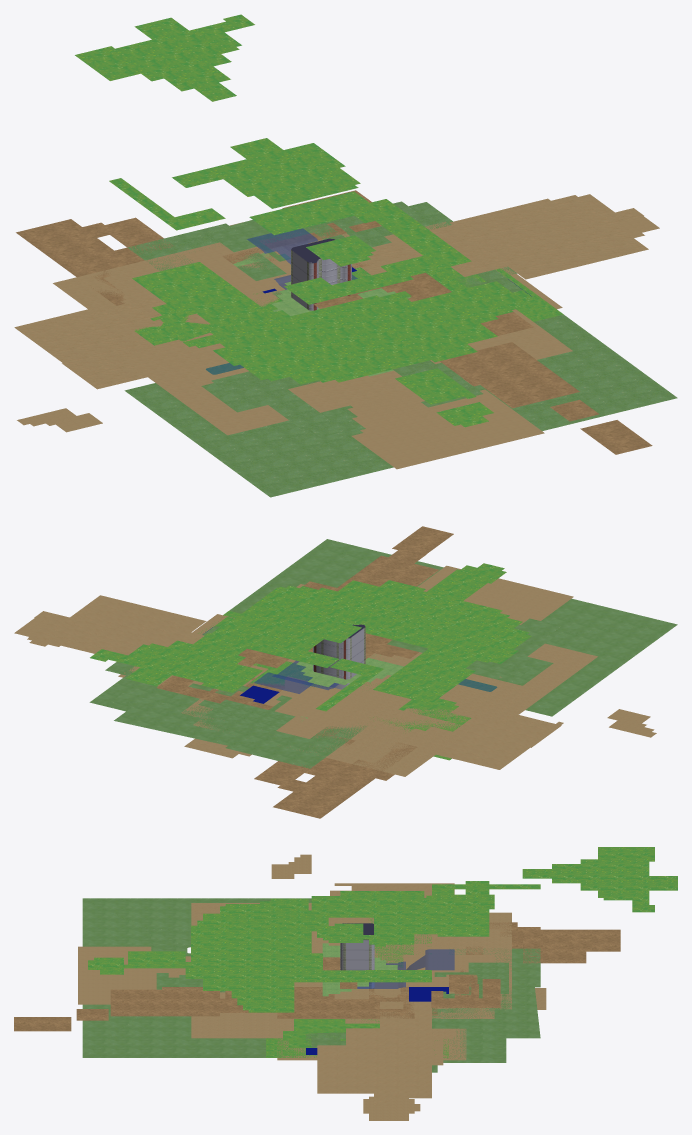
3 views of the same model, one above another, from view 1: azimuth 30°, elevation 25°; view 2: azimuth 150°, elevation 25°; view 3: azimuth 270°, elevation 25° (orthographic). The views are drawn at different scales.
Parts seen in each view (by area): view 1: lib:denghuoshan_floor, lib:yijishangu_floor, lib:suoqiao_floor, lib:qibaoxigu_floor, lib:baowuhaitan_floor, lib:shuguosenlin_floor, lib:matou_floor, lib:lvzhibudao_floor, lib:dierdao_floor, SM_D_011_BaTower_01_0, lib:shuizhimigong_floor, lib:biaozhizhilin_floor (+3 smaller); view 2: lib:denghuoshan_floor, lib:yijishangu_floor, lib:suoqiao_floor, lib:qibaoxigu_floor, lib:matou_floor, lib:baowuhaitan_floor, lib:shuguosenlin_floor, lib:lvzhibudao_floor, lib:dierdao_floor, SM_D_011_BaTower_01_0, lib:shuizhimigong_floor, lib:danshenzhidao_floor (+3 smaller); view 3: lib:denghuoshan_floor, lib:yijishangu_floor, lib:qibaoxigu_floor, lib:suoqiao_floor, lib:matou_floor, lib:baowuhaitan_floor, lib:lvzhibudao_floor, lib:shuguosenlin_floor, lib:shuizhimigong_floor, SM_D_011_BaTower_01_0, lib:disidao_floor, lib:dierdao_floor (+6 smaller).
Boxes of the visible parts, x1,y1,x2,y2 form: lib:denghuoshan_floor: (75, 14, 524, 427); lib:yijishangu_floor: (124, 201, 677, 497); lib:suoqiao_floor: (14, 194, 648, 389); lib:qibaoxigu_floor: (16, 190, 652, 454); lib:baowuhaitan_floor: (185, 245, 544, 469); lib:shuguosenlin_floor: (121, 235, 572, 435); lib:matou_floor: (53, 233, 558, 405); lib:lvzhibudao_floor: (134, 266, 536, 348); lib:dierdao_floor: (209, 222, 344, 418); SM_D_011_BaTower_01_0: (291, 238, 351, 310); lib:shuizhimigong_floor: (17, 216, 659, 432); lib:biaozhizhilin_floor: (206, 268, 563, 374); lib:denghuoshan_floor: (90, 563, 531, 711); lib:yijishangu_floor: (89, 539, 677, 768); lib:suoqiao_floor: (28, 595, 563, 769); lib:qibaoxigu_floor: (157, 526, 453, 818); lib:matou_floor: (181, 652, 472, 776); lib:baowuhaitan_floor: (264, 565, 573, 738); lib:shuguosenlin_floor: (187, 584, 597, 756); lib:lvzhibudao_floor: (215, 617, 471, 731); lib:dierdao_floor: (198, 686, 295, 732); SM_D_011_BaTower_01_0: (313, 624, 365, 689); lib:shuizhimigong_floor: (14, 618, 656, 737); lib:danshenzhidao_floor: (296, 658, 403, 687); lib:denghuoshan_floor: (88, 847, 677, 1012); lib:yijishangu_floor: (82, 898, 540, 1072); lib:qibaoxigu_floor: (14, 922, 620, 1031); lib:suoqiao_floor: (317, 883, 454, 1105); lib:matou_floor: (214, 912, 511, 1038); lib:baowuhaitan_floor: (78, 946, 494, 1004); lib:lvzhibudao_floor: (277, 918, 431, 1055); lib:shuguosenlin_floor: (191, 903, 454, 1038); lib:shuizhimigong_floor: (271, 854, 443, 1120); SM_D_011_BaTower_01_0: (340, 923, 374, 988); lib:disidao_floor: (277, 1028, 466, 1060); lib:dierdao_floor: (386, 962, 508, 998).
Size of what is drawn, in the model's own units: 110 by 25 by 116.
91 materials, 85 textured.
